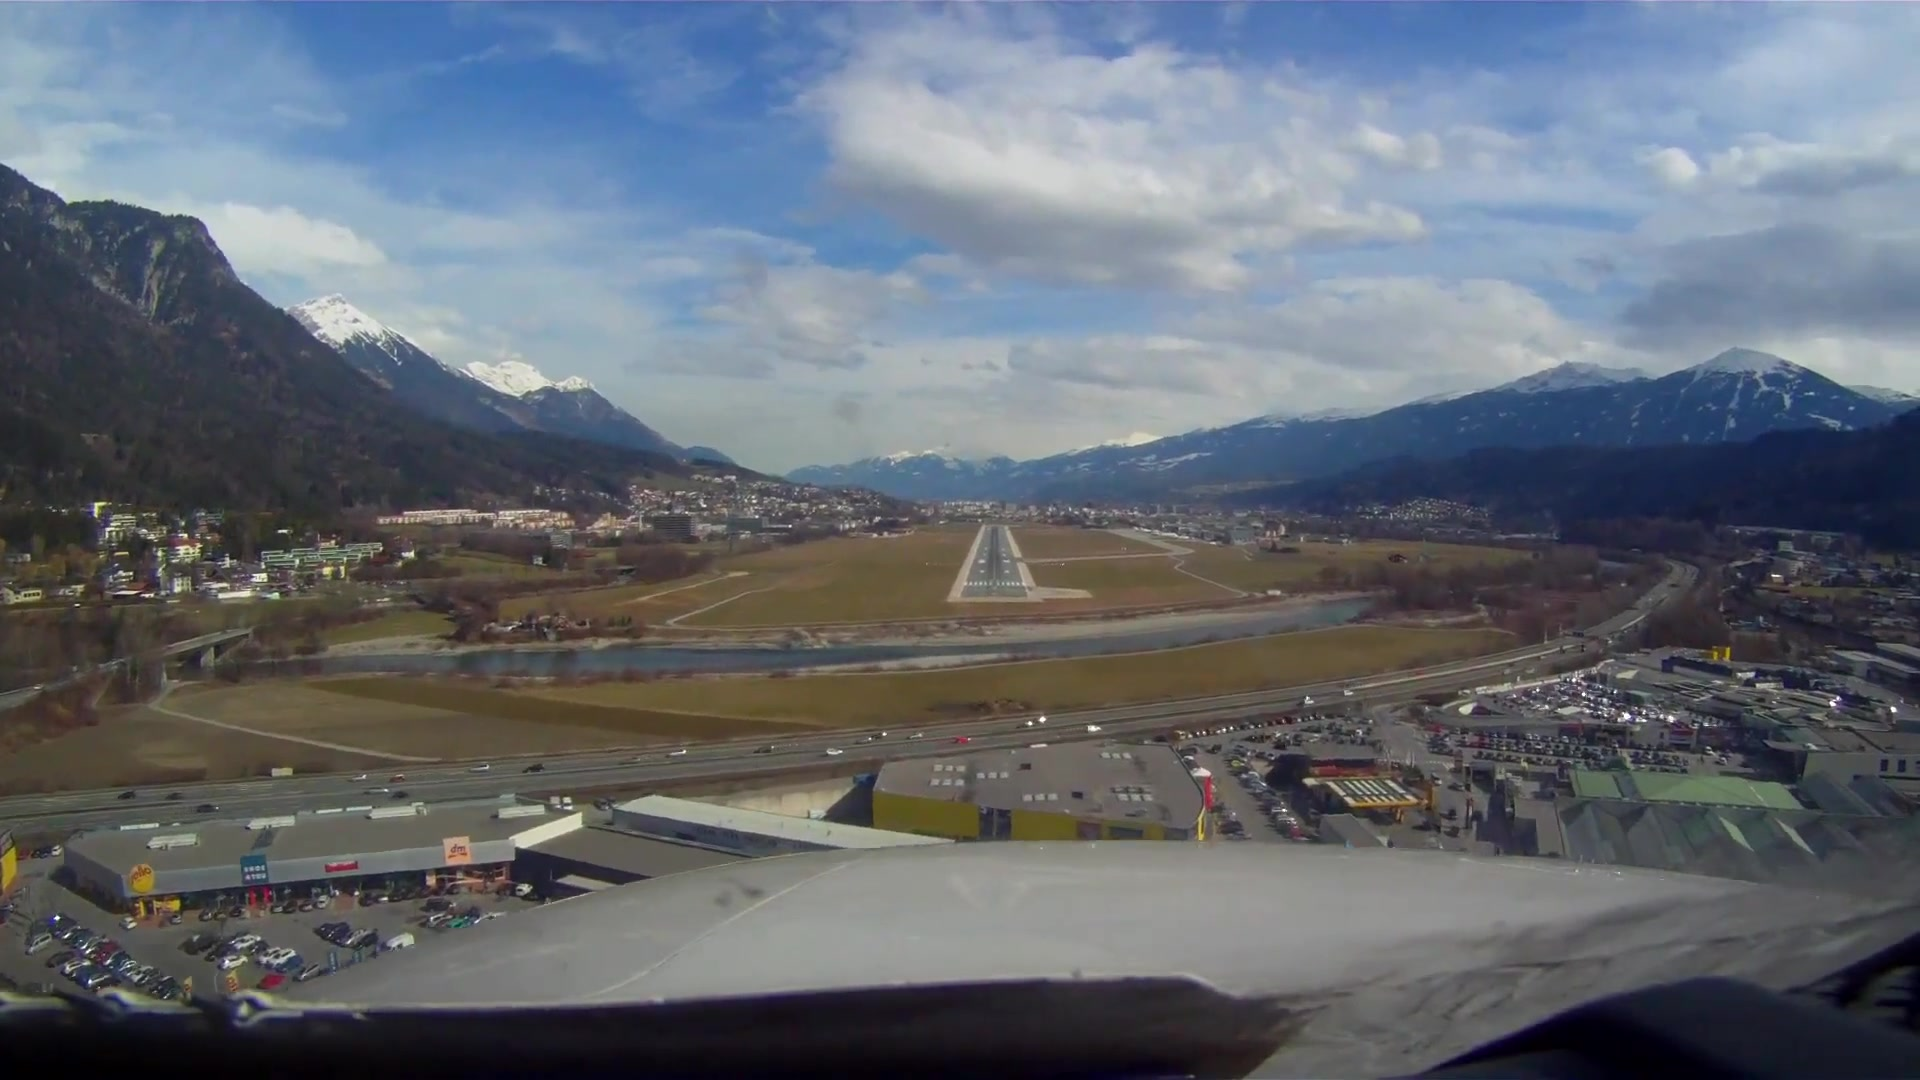entrance: (965, 579, 1025, 588)
runway: (961, 524, 1029, 596)
